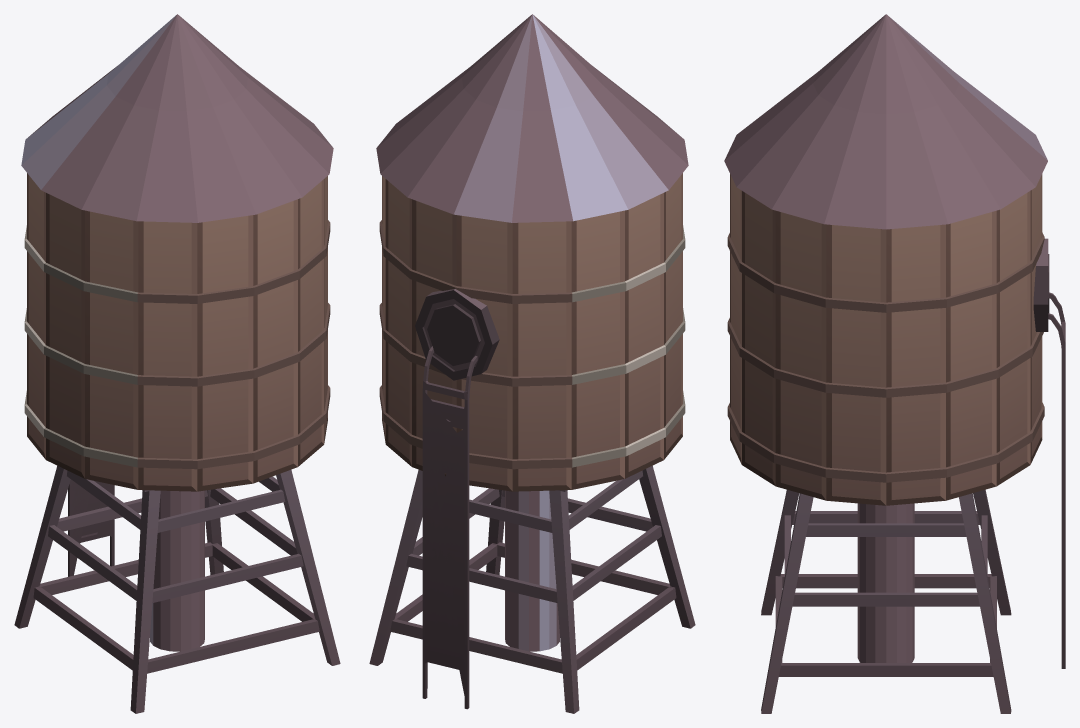
File: WaterTower_1.fbx
3 renders of one model, left to right at view 1: azimuth 30°, elevation 25°; view 2: azimuth 150°, elevation 25°; view 3: azimuth 270°, elevation 25°, orthographic. The views are drawn at different scales.
Parts seen in each view (by area): view 1: Circle.012; view 2: Circle.012; view 3: Circle.012.
Boxes of the visible parts, x1,y1,x2,y2 form: Circle.012: [14, 14, 340, 713]; Circle.012: [369, 14, 695, 713]; Circle.012: [724, 14, 1065, 713].
Size of the model in its own units: 519 by 1145 by 547.
